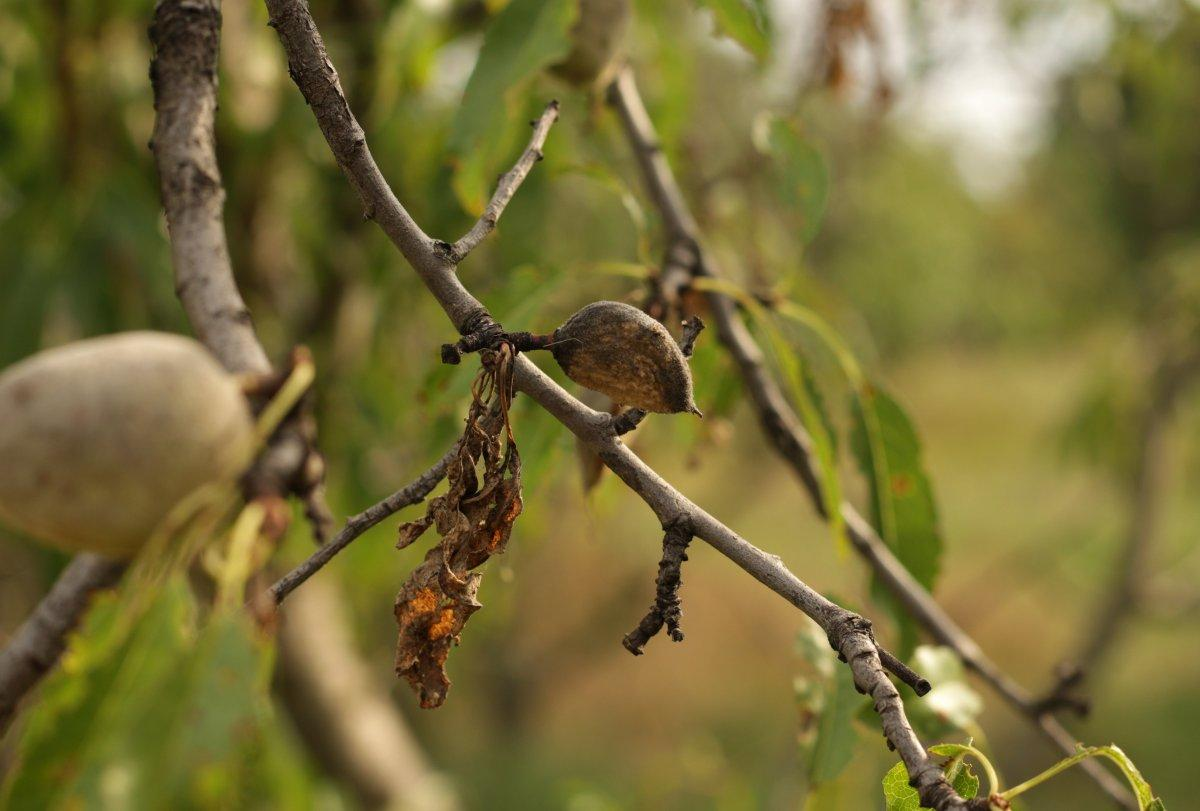branches_drying: (513, 358, 1027, 810), (269, 0, 494, 331), (150, 0, 271, 375), (271, 449, 454, 603), (488, 103, 557, 217)
